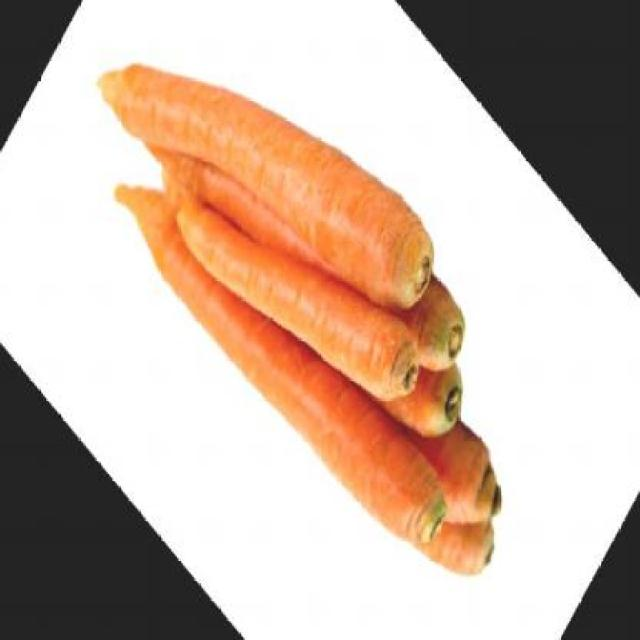carrot: (135, 0, 473, 458), (90, 0, 449, 412), (128, 149, 457, 580), (167, 108, 431, 470), (373, 361, 516, 562), (358, 300, 473, 472), (407, 463, 504, 608)
